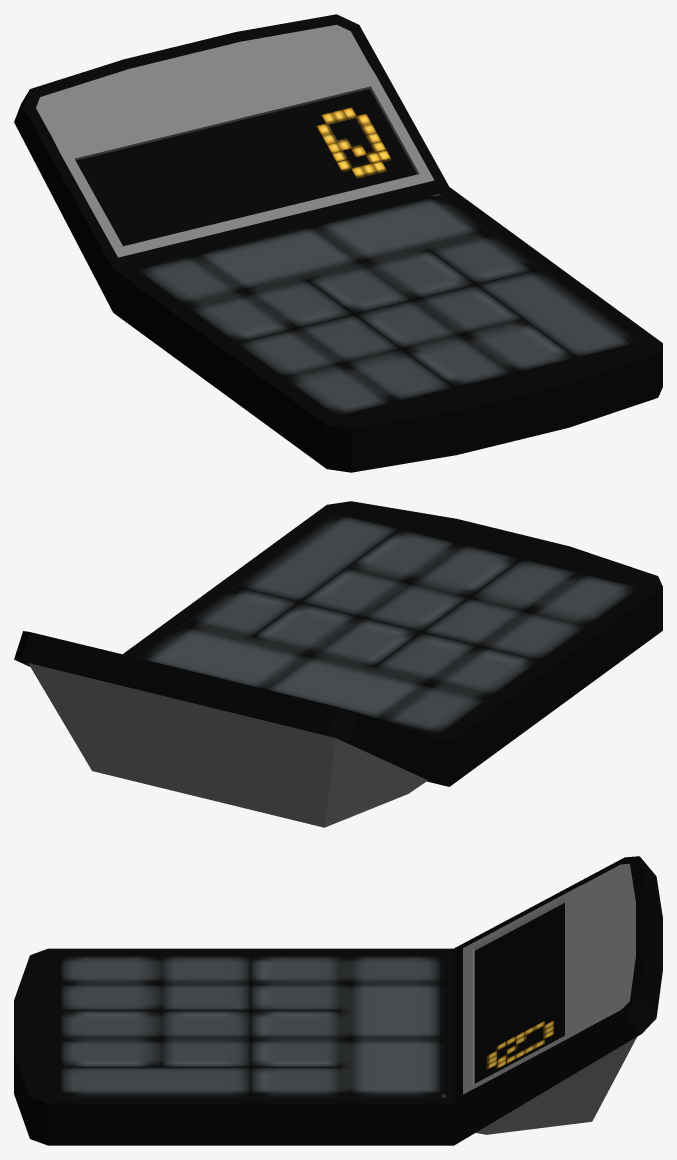
The model's file is Int_OfficeCalculator01.fbx.
3 views of the same model, one above another, from view 1: azimuth 30°, elevation 25°; view 2: azimuth 150°, elevation 25°; view 3: azimuth 270°, elevation 25° (orthographic). The views are drawn at different scales.
Visible parts, largest first — view 1: Int_OfficeCalculator01; view 2: Int_OfficeCalculator01; view 3: Int_OfficeCalculator01.
Part boxes in pixels (bbox=[...]): Int_OfficeCalculator01: bbox=[14, 14, 662, 472]; Int_OfficeCalculator01: bbox=[14, 501, 662, 827]; Int_OfficeCalculator01: bbox=[14, 856, 662, 1145].
Size of what is drawn, in the model's own units: 22.77 by 40.11 by 9.83.
